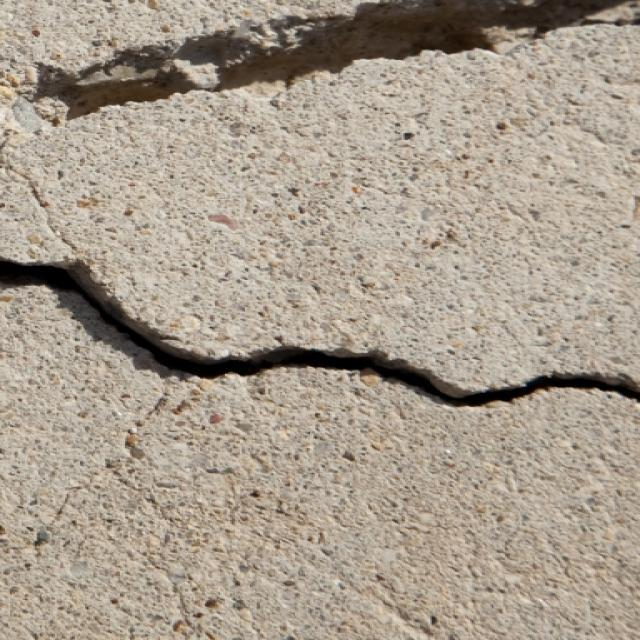Diagonal: (0, 0, 640, 144)
Transverse: (0, 235, 636, 425)
